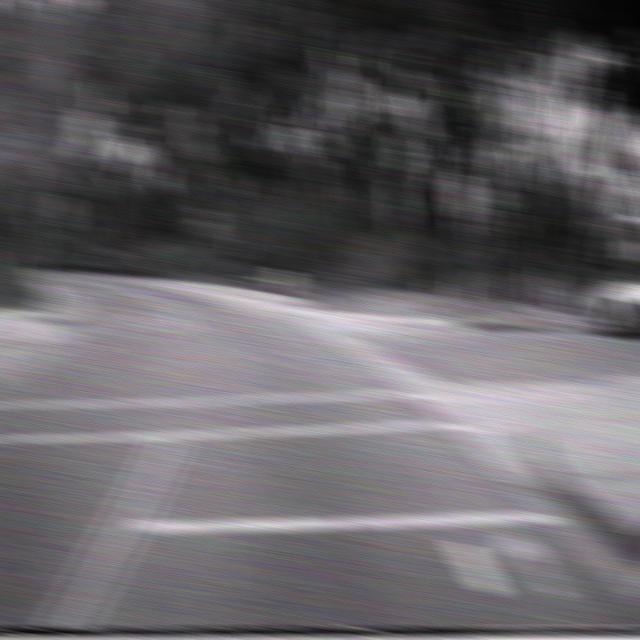stop_sign: (448, 170, 477, 222)
